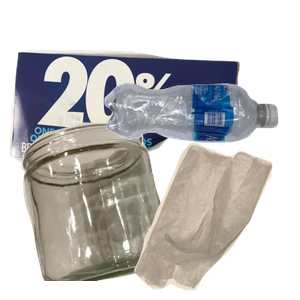glass: (19, 120, 184, 300)
paper: (10, 41, 242, 207)
plastic: (102, 81, 300, 216)
trash: (132, 140, 300, 300)
